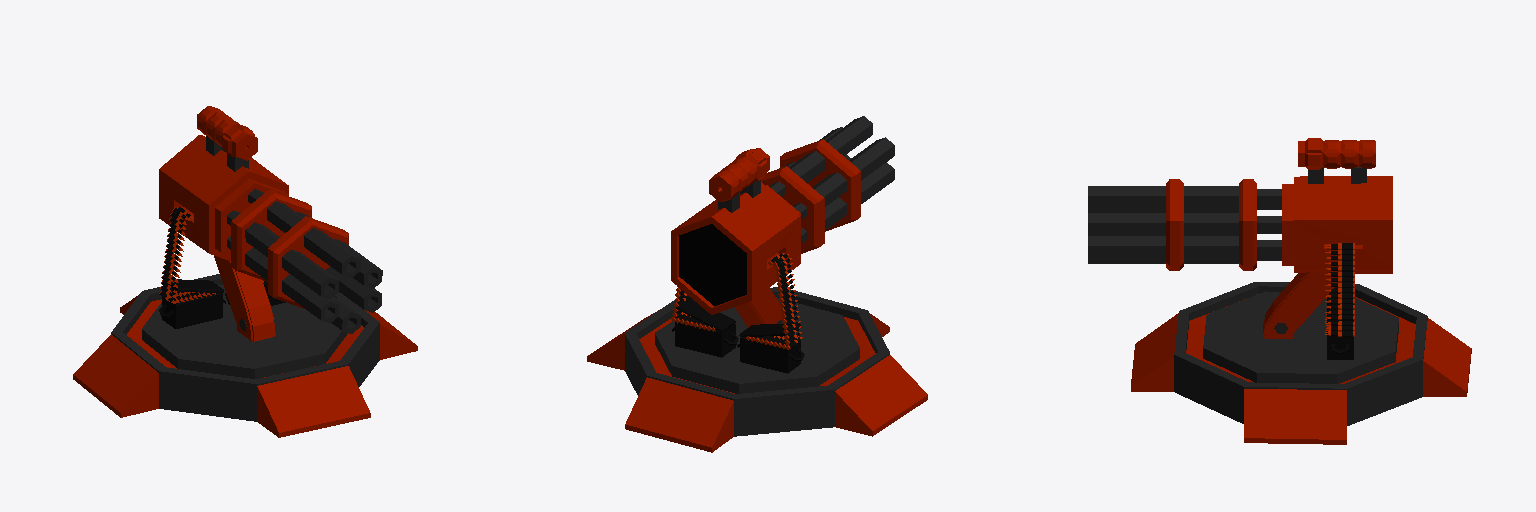
File: GatelngGunTurret.obj
3 views of the same model, side by side, from view 1: azimuth 30°, elevation 25°; view 2: azimuth 150°, elevation 25°; view 3: azimuth 270°, elevation 25° (orthographic).
Parts seen in each view (by area): view 1: Base1GatelingGunTurret, Gun1GatelngGunTurret, PipesGatelngGunTurret, AmmoBox1GatelingGun, MiddleGatelingGunTurret, LaserSightGatelingGunTurret; view 2: Base1GatelingGunTurret, Gun1GatelngGunTurret, AmmoBox1GatelingGun, PipesGatelngGunTurret, LaserSightGatelingGunTurret, MiddleGatelingGunTurret; view 3: Base1GatelingGunTurret, Gun1GatelngGunTurret, PipesGatelngGunTurret, AmmoBox1GatelingGun, MiddleGatelingGunTurret, LaserSightGatelingGunTurret.
Part boxes in pixels (left/top/right/bottom): Base1GatelingGunTurret: left=73, top=274, right=417, bottom=437; Gun1GatelngGunTurret: left=159, top=135, right=348, bottom=308; PipesGatelngGunTurret: left=227, top=189, right=382, bottom=333; AmmoBox1GatelingGun: left=159, top=207, right=285, bottom=328; MiddleGatelingGunTurret: left=214, top=256, right=275, bottom=341; LaserSightGatelingGunTurret: left=197, top=106, right=257, bottom=171; Base1GatelingGunTurret: left=587, top=287, right=927, bottom=452; Gun1GatelngGunTurret: left=671, top=139, right=860, bottom=314; AmmoBox1GatelingGun: left=671, top=253, right=804, bottom=373; PipesGatelngGunTurret: left=769, top=116, right=894, bottom=243; LaserSightGatelingGunTurret: left=709, top=148, right=769, bottom=212; MiddleGatelingGunTurret: left=735, top=288, right=782, bottom=327; Base1GatelingGunTurret: left=1131, top=282, right=1471, bottom=444; Gun1GatelngGunTurret: left=1166, top=176, right=1392, bottom=273; PipesGatelngGunTurret: left=1088, top=186, right=1281, bottom=263; AmmoBox1GatelingGun: left=1325, top=243, right=1354, bottom=359; MiddleGatelingGunTurret: left=1263, top=272, right=1338, bottom=338; LaserSightGatelingGunTurret: left=1298, top=138, right=1375, bottom=183.
Size of the model in its own units: 3.25 by 2.46 by 3.66.